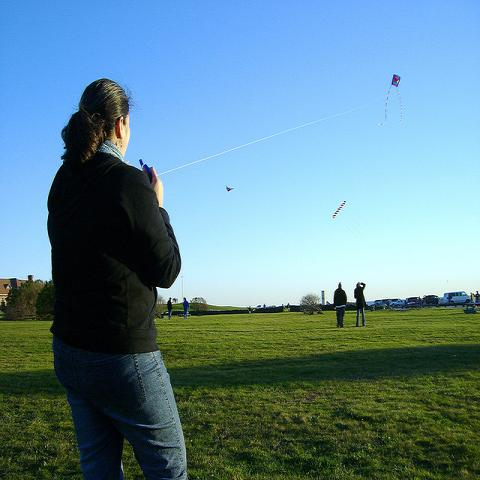car: (443, 291, 471, 303), (389, 299, 405, 308), (404, 298, 418, 308), (370, 302, 387, 310), (385, 301, 391, 309)
